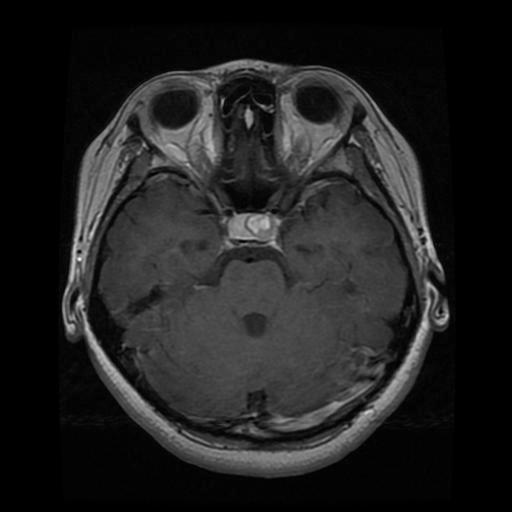Tumour-Pituitary: (210, 202, 306, 252)
